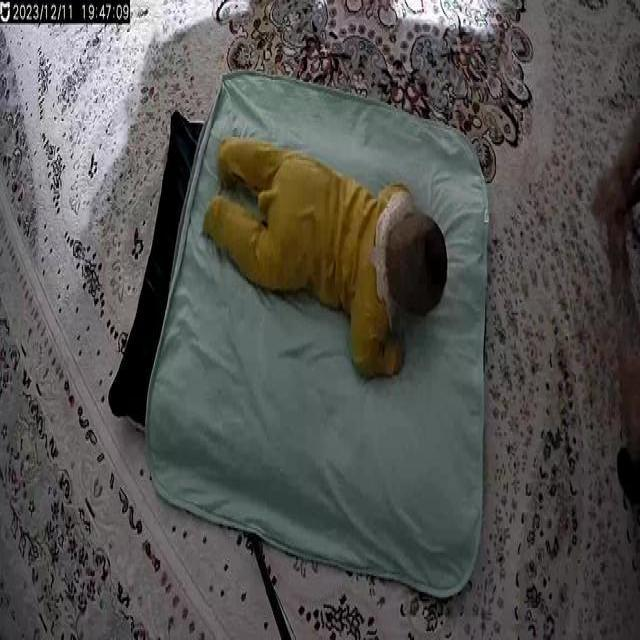baby: (201, 130, 448, 380)
